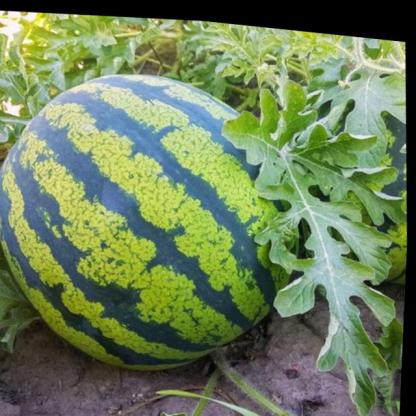watermelon: (0, 50, 313, 388)
